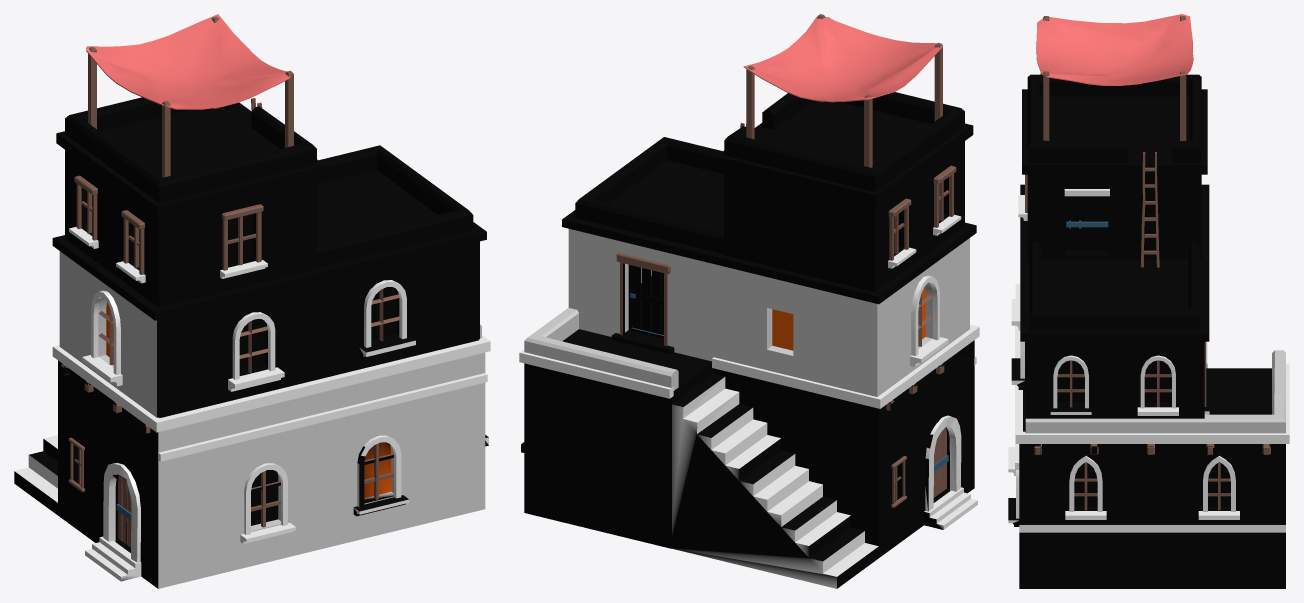
File: civilian_house_31_c.FBX
3 views of the same model, side by side, from view 1: azimuth 30°, elevation 25°; view 2: azimuth 150°, elevation 25°; view 3: azimuth 270°, elevation 25° (orthographic). The views are drawn at different scales.
Parts seen in each view (by area): view 1: civilian_house_31_c_LOD0; view 2: civilian_house_31_c_LOD0; view 3: civilian_house_31_c_LOD0.
Part boxes in pixels (<box>): civilian_house_31_c_LOD0: <box>14,14,490,588</box>; civilian_house_31_c_LOD0: <box>519,14,979,588</box>; civilian_house_31_c_LOD0: <box>1008,14,1289,588</box>.
Size of what is drawn, in the model's own units: 1146 by 1442 by 844.
